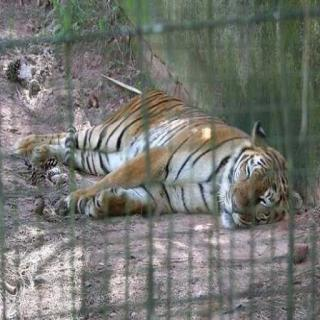Tiger: (17, 88, 306, 240)
